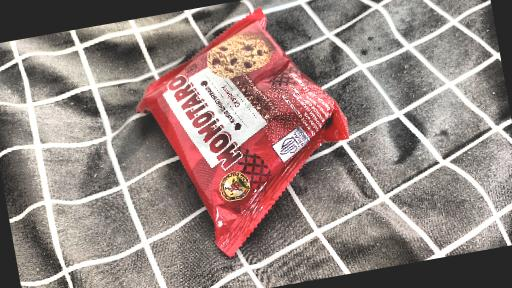momotaro: (126, 0, 401, 236)
